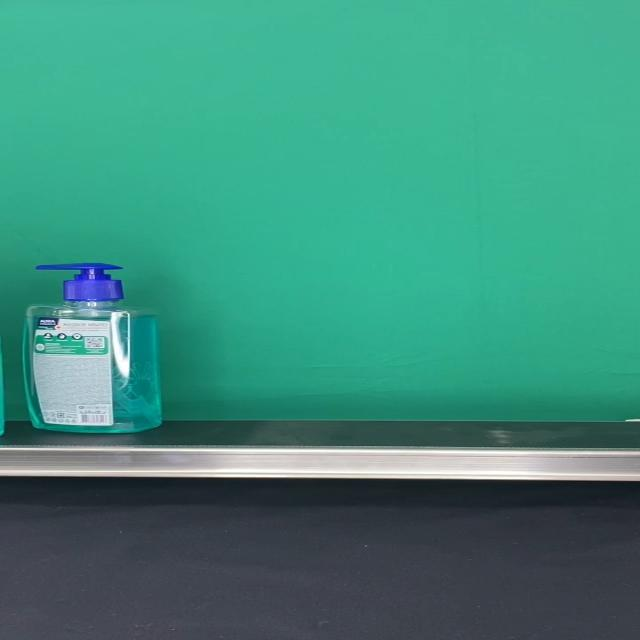Bottle: (23, 263, 164, 433)
Cap: (33, 263, 123, 301)
